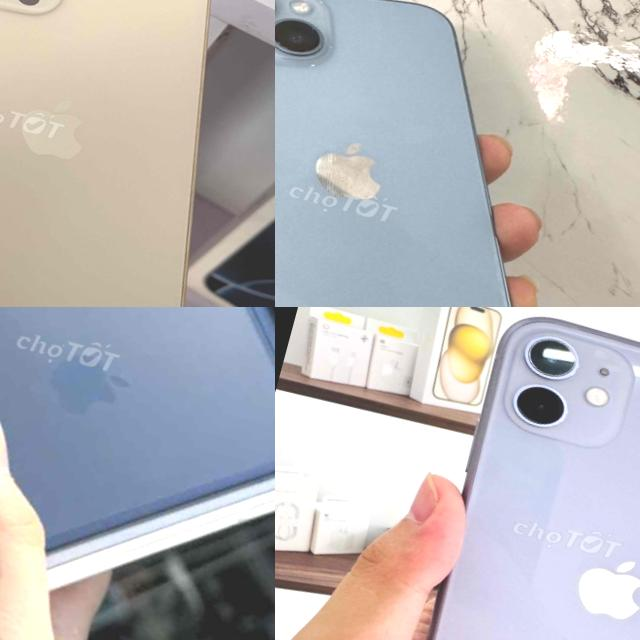gen_11: (370, 307, 640, 640)
gen_12_13: (0, 0, 275, 307)
gen_14: (275, 0, 630, 307)
gen_17: (0, 307, 275, 548)
